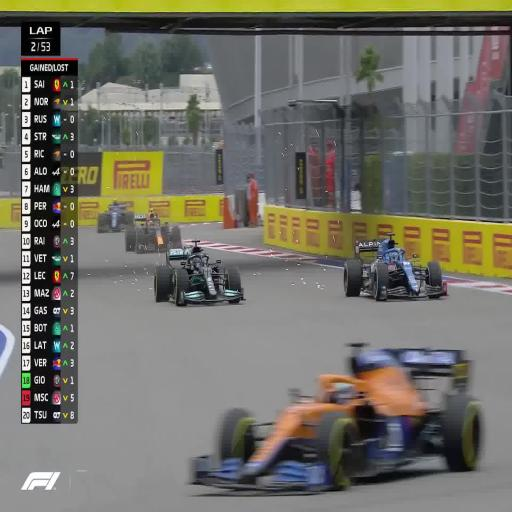f1_car: (189, 344, 483, 491), (343, 233, 447, 300), (154, 240, 244, 304), (125, 211, 182, 252), (97, 200, 134, 233)
